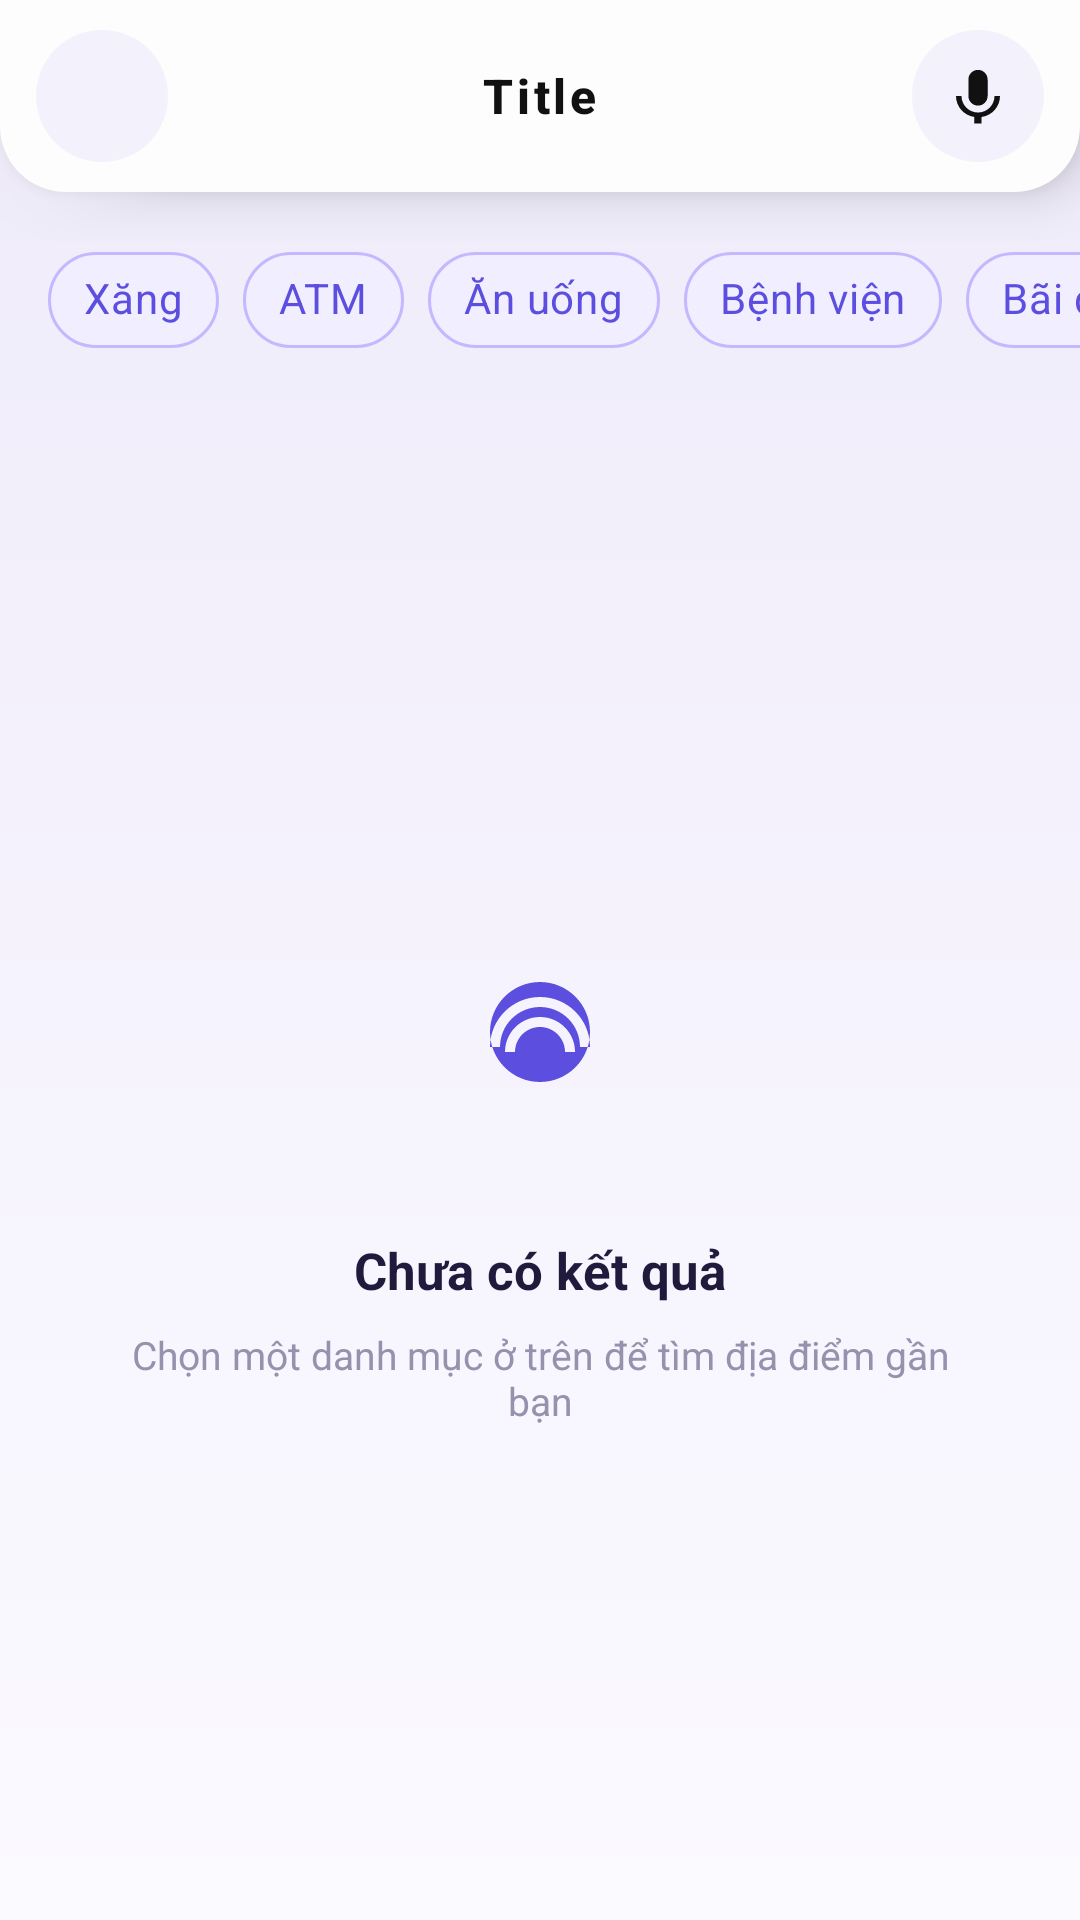

Icons on this 1080 × 1920 Android screen, each with the point to tap as (x=x, y=y):
Trợ lý giọng nói: (x=978, y=96)
